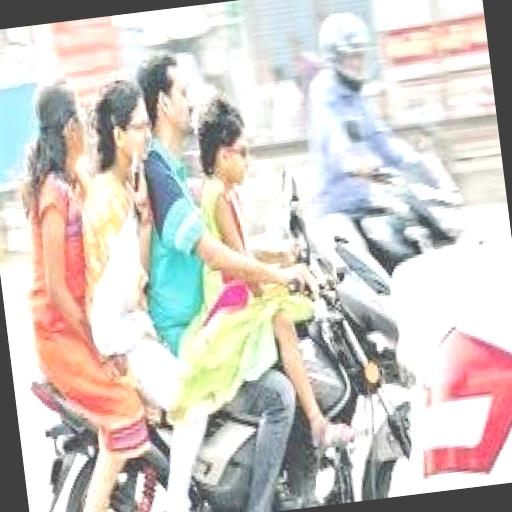no helmet: (142, 60, 208, 178)
triple riding: (0, 31, 438, 512)
